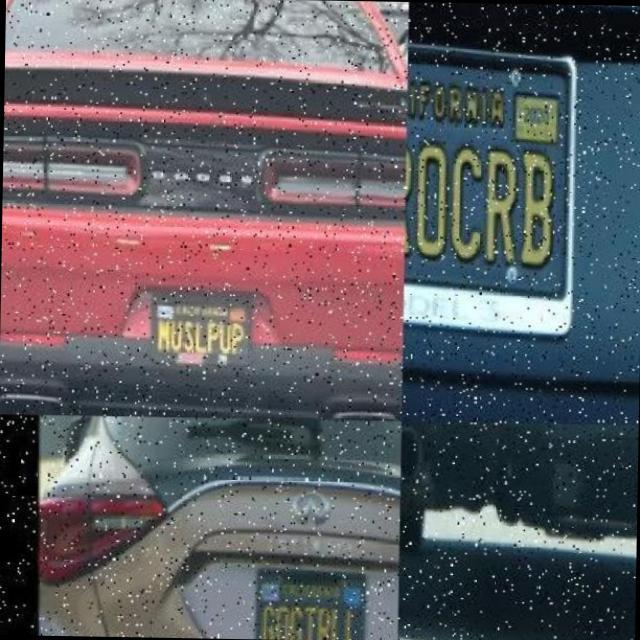LicensePlate: (402, 8, 593, 348), (255, 548, 375, 640), (151, 288, 254, 359), (516, 423, 620, 475)
